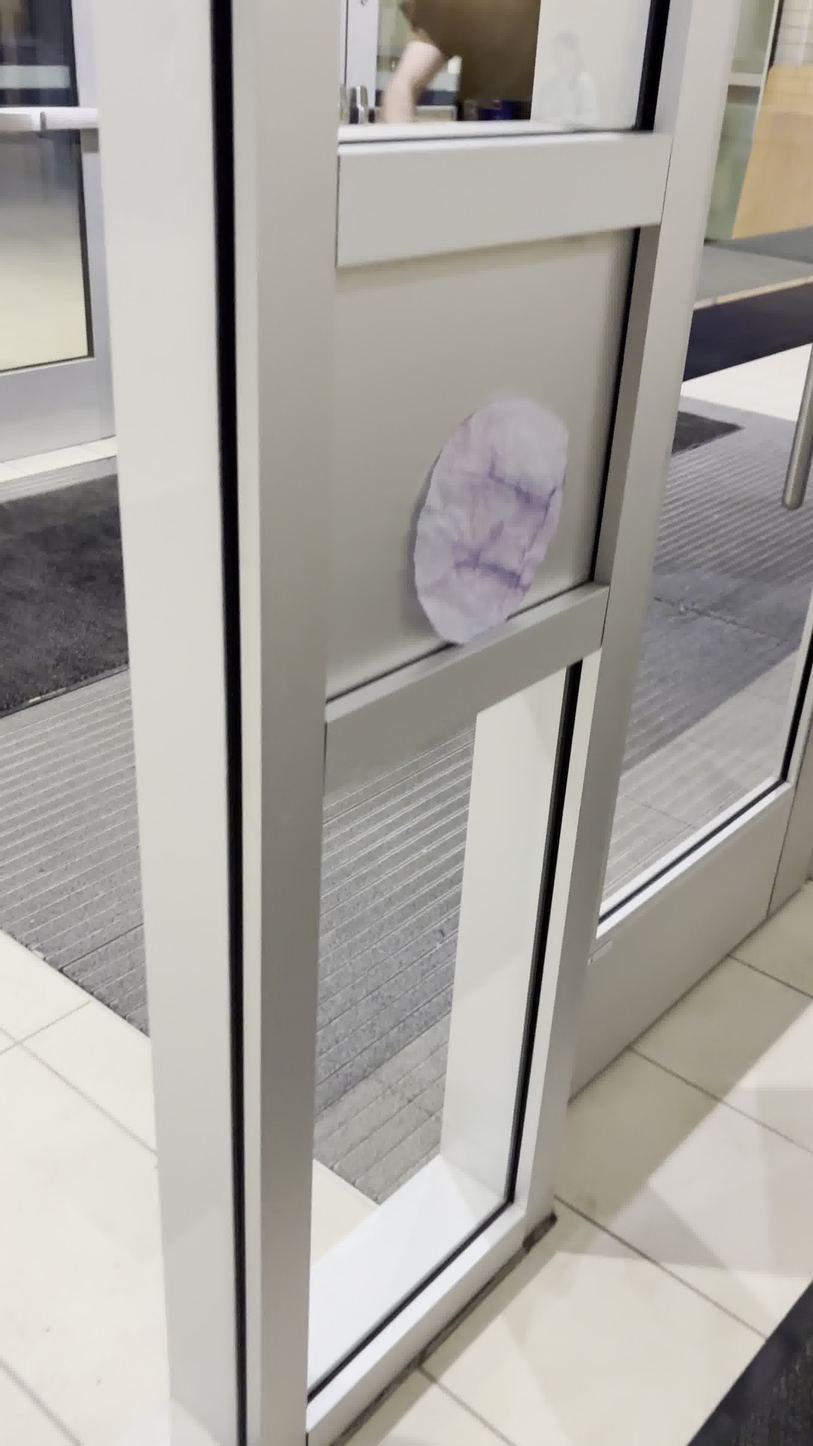Target: (404, 384, 579, 655)
